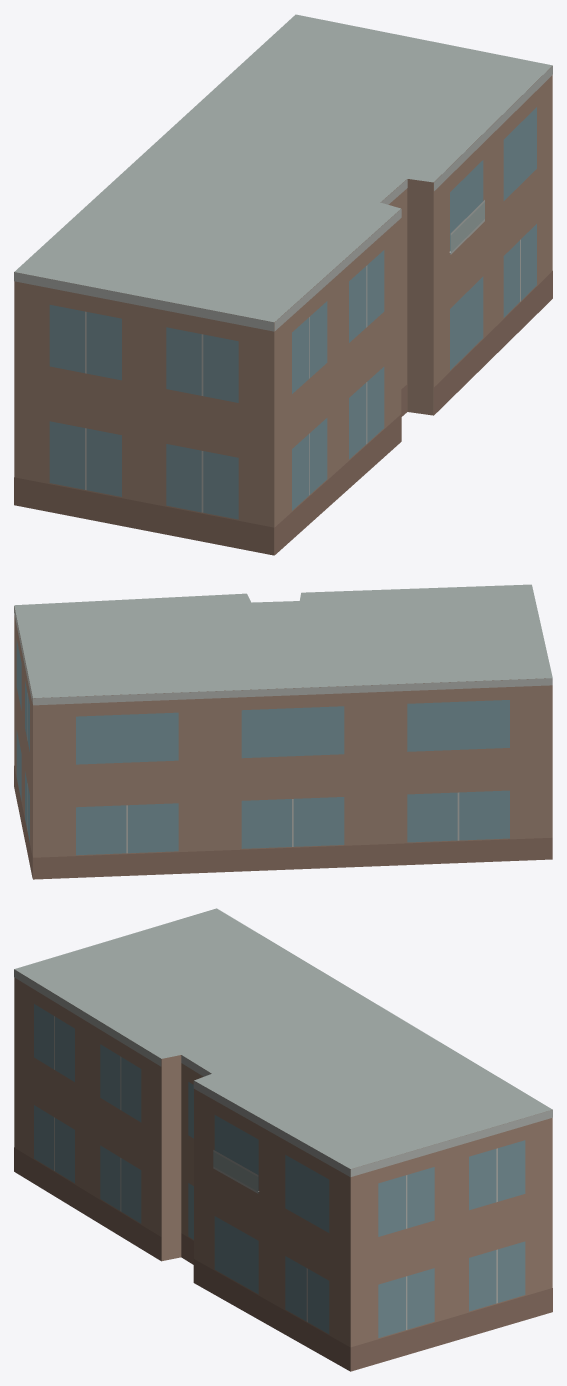
File: survey-upis-32802761.glb
The picture shows the model from 3 angles, top to bottom: view 1: azimuth 30°, elevation 25°; view 2: azimuth 150°, elevation 25°; view 3: azimuth 270°, elevation 25°; orthographic projection. The views are drawn at different scales.
Visible parts, largest first — view 1: survey-upis-32802761.tmp; view 2: survey-upis-32802761.tmp; view 3: survey-upis-32802761.tmp.
Boxes of the visible parts, left/top/right/bottom form: survey-upis-32802761.tmp: left=14, top=14, right=552, bottom=555; survey-upis-32802761.tmp: left=14, top=584, right=552, bottom=879; survey-upis-32802761.tmp: left=14, top=908, right=552, bottom=1371.
Bounding box in the file's own units: 16.87 × 6.1 × 14.72.
